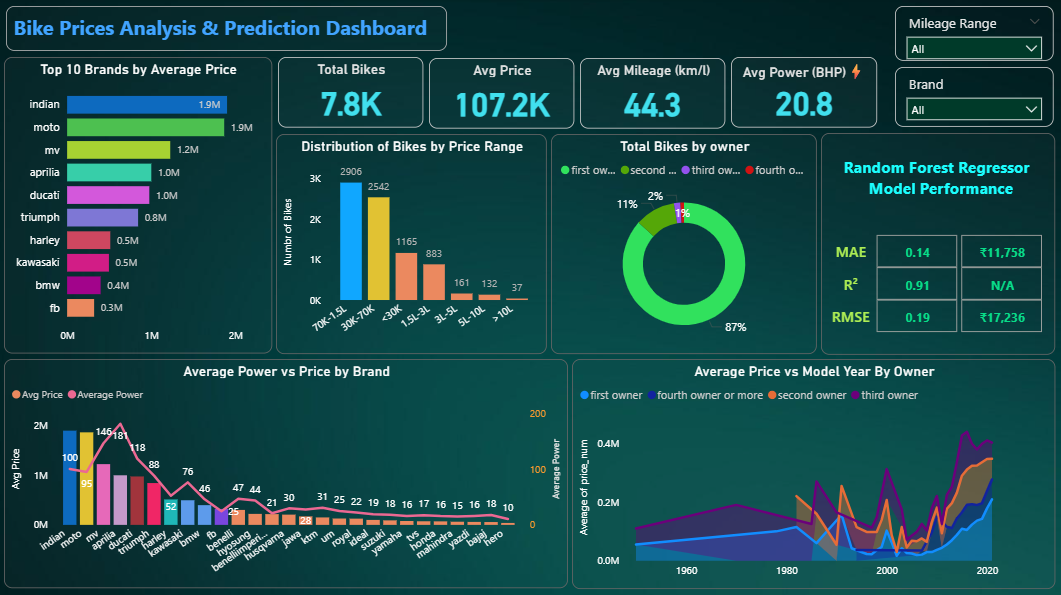

What the dashboard file says about the page in this screenshot:
{"tool":"powerbi","page":{"name":"Page 1","canvas":[1280,720],"ordinal":0},"visuals":[{"type":"textbox","box":[9.6,9.6,531,54.2],"z":0},{"type":"card","title":"Total Bikes","fields":{"Values":["bike_data_cleaned.Total Bikes"]},"box":[337,71,175,85],"z":1000},{"type":"card","title":"Avg Price","fields":{"Values":["bike_data_cleaned.Avg Price"]},"box":[519,72.2,175,85],"z":2000},{"type":"card","title":"Avg Mileage (km/l)","fields":{"Values":["bike_data_cleaned.Average Mileage"]},"box":[701,72.2,175,85],"z":3000},{"type":"card","title":"Avg Power (BHP)⚡","fields":{"Values":["bike_data_cleaned.Average Power"]},"box":[882,70.6,175.9,85],"z":4000},{"type":"clusteredColumnChart","title":"Distribution of Bikes by Price Range","fields":{"Category":["bike_data_cleaned.price_range"],"Y":["CountNonNull(bike_data_cleaned.brand)"]},"box":[335,163.7,326.3,264.9],"z":5000},{"type":"clusteredBarChart","title":"Top 10 Brands by Average Price","fields":{"Category":["bike_data_cleaned.brand"],"Y":["bike_data_cleaned.Avg Price"]},"box":[7.2,71,322.7,357],"z":6000},{"type":"lineClusteredColumnComboChart","title":"Average Power vs Price by Brand","fields":{"Category":["bike_data_cleaned.brand"],"Y":["bike_data_cleaned.Avg Price"],"Y2":["bike_data_cleaned.Average Power"]},"box":[7.2,435,679,275.7],"z":7000},{"type":"donutChart","title":"Total Bikes by owner","fields":{"Y":["bike_data_cleaned.Total Bikes"],"Category":["bike_data_cleaned.owner_clean"]},"box":[666,163.7,320.3,264.9],"z":8000},{"type":"stackedAreaChart","title":"Average Price vs Model Year By Owner","fields":{"Category":["bike_data_cleaned.model_year"],"Series":["bike_data_cleaned.owner_clean"],"Y":["Avg(bike_data_cleaned.price_num)"]},"box":[691.1,434.9,582,277.2],"z":9000},{"type":"shape","box":[990.9,162.5,281.7,267.3],"z":10000},{"type":"cardVisual","fields":{"Data":["Sum(model_prediction.Log Scale)","Min(model_prediction.Original Scale)"],"Rows":["model_prediction.Metric"]},"box":[990.9,249.2,272.1,179.4],"z":11000},{"type":"textbox","box":[998,185,274.6,86],"z":12000},{"type":"slicer","fields":{"Values":["bike_data_cleaned.brand"]},"box":[1080.5,83.1,191.2,72],"z":13000},{"type":"slicer","fields":{"Values":["bike_data_cleaned.mileage_bin"]},"box":[1080.5,9.7,191.2,66.5],"z":14000}]}

Visuals, with their boxes in screenshot pixels (x1, y1, x2, y2), scaled from the page's 1280x720 canvas onto the 1061x595 screenshot:
textbox: (x1=8, y1=8, x2=448, y2=53)
"Total Bikes" card: (x1=279, y1=59, x2=424, y2=129)
"Avg Price" card: (x1=430, y1=60, x2=575, y2=130)
"Avg Mileage (km/l)" card: (x1=581, y1=60, x2=726, y2=130)
"Avg Power (BHP)⚡" card: (x1=731, y1=58, x2=877, y2=129)
"Distribution of Bikes by Price Range" clusteredColumnChart: (x1=278, y1=135, x2=548, y2=354)
"Top 10 Brands by Average Price" clusteredBarChart: (x1=6, y1=59, x2=273, y2=354)
"Average Power vs Price by Brand" lineClusteredColumnComboChart: (x1=6, y1=359, x2=569, y2=587)
"Total Bikes by owner" donutChart: (x1=552, y1=135, x2=818, y2=354)
"Average Price vs Model Year By Owner" stackedAreaChart: (x1=573, y1=359, x2=1055, y2=588)
shape: (x1=821, y1=134, x2=1055, y2=355)
cardVisual - Sum(model_prediction.Log Scale) x Min(model_prediction.Original Scale): (x1=821, y1=206, x2=1047, y2=354)
textbox: (x1=827, y1=153, x2=1055, y2=224)
slicer - bike_data_cleaned.brand: (x1=896, y1=69, x2=1054, y2=128)
slicer - bike_data_cleaned.mileage_bin: (x1=896, y1=8, x2=1054, y2=63)
